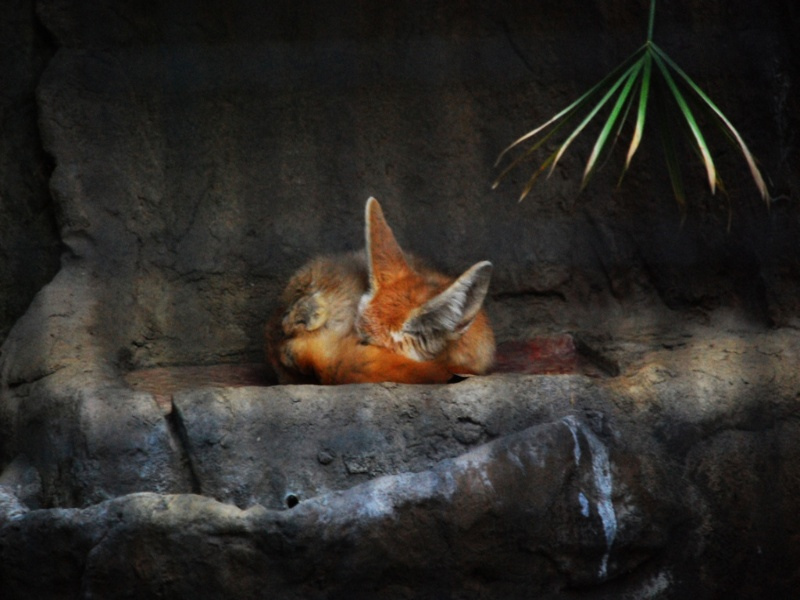fox: (257, 190, 627, 387)
